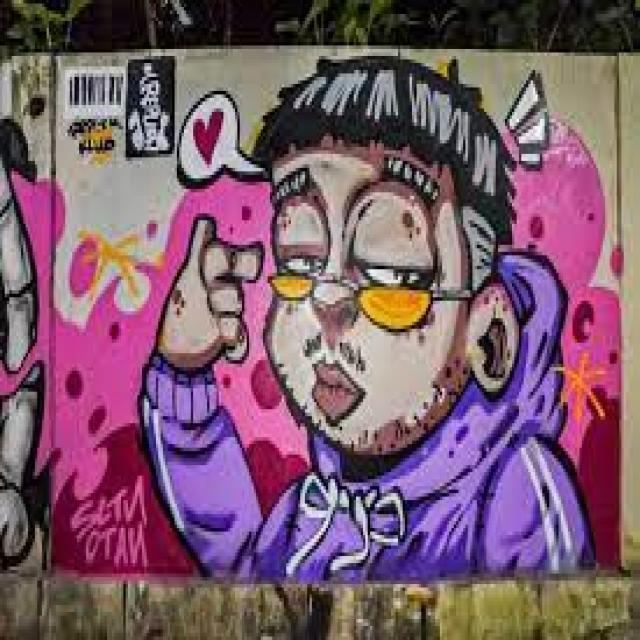-: (0, 115, 624, 577), (135, 53, 598, 575), (66, 54, 176, 158)
